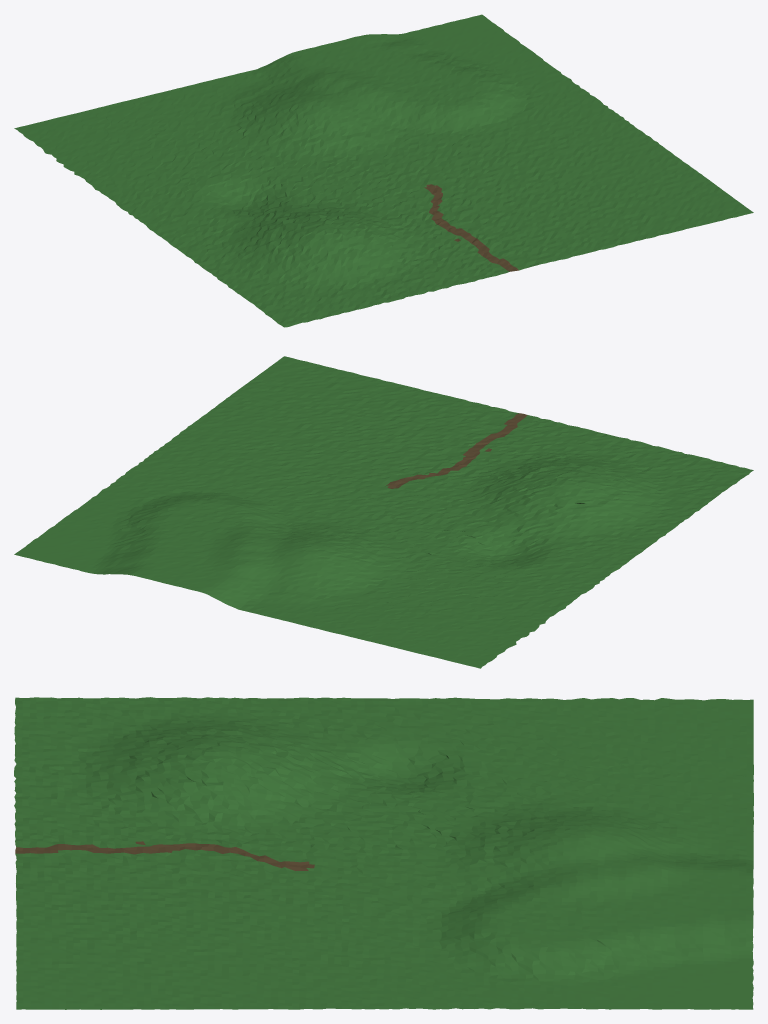
Rendered from copse_chase_map.glb.
3 views of the same model, one above another, from view 1: azimuth 30°, elevation 25°; view 2: azimuth 150°, elevation 25°; view 3: azimuth 270°, elevation 25° (orthographic). The views are drawn at different scales.
Visible parts, largest first — view 1: 2, 7, 6, 8, 0, 1, 4, 3, 5; view 2: 7, 3, 8, 0, 6, 2, 1, 5, 4; view 3: 1, 6, 5, 0, 8, 3, 2, 7, 4.
Part boxes in pixels (x1=…): 2: x1=194, y1=215, x2=441, y2=327; 7: x1=171, y1=41, x2=433, y2=155; 6: x1=259, y1=109, x2=516, y2=215; 8: x1=14, y1=90, x2=262, y2=194; 0: x1=508, y1=146, x2=753, y2=251; 1: x1=352, y1=183, x2=594, y2=288; 4: x1=427, y1=82, x2=661, y2=180; 3: x1=105, y1=157, x2=353, y2=260; 5: x1=338, y1=14, x2=572, y2=107; 7: x1=158, y1=514, x2=411, y2=630; 3: x1=417, y1=489, x2=661, y2=601; 8: x1=324, y1=564, x2=571, y2=668; 0: x1=194, y1=356, x2=441, y2=460; 6: x1=251, y1=458, x2=501, y2=564; 2: x1=507, y1=431, x2=753, y2=536; 1: x1=348, y1=394, x2=595, y2=492; 5: x1=14, y1=488, x2=247, y2=581; 4: x1=107, y1=423, x2=337, y2=516; 1: x1=14, y1=790, x2=266, y2=907; 6: x1=258, y1=794, x2=509, y2=913; 5: x1=502, y1=902, x2=753, y2=1009; 0: x1=16, y1=903, x2=264, y2=1009; 8: x1=505, y1=698, x2=753, y2=805; 3: x1=255, y1=697, x2=510, y2=803; 2: x1=14, y1=697, x2=266, y2=803; 7: x1=502, y1=802, x2=753, y2=905; 4: x1=263, y1=902, x2=506, y2=1009.
Size of the model in its own units: 10.21 by 0.4891 by 10.24.
